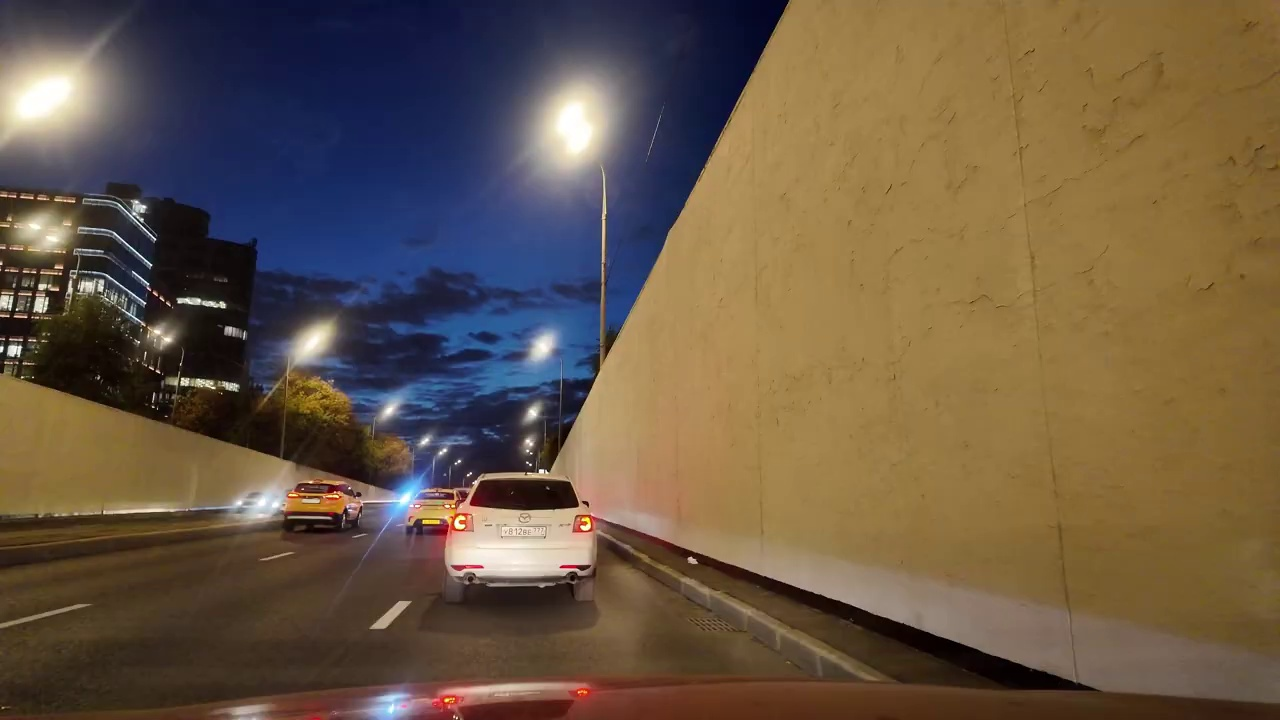acesa: (1, 67, 79, 129), (541, 91, 605, 163), (17, 211, 69, 255), (293, 318, 332, 355), (519, 328, 555, 365)
